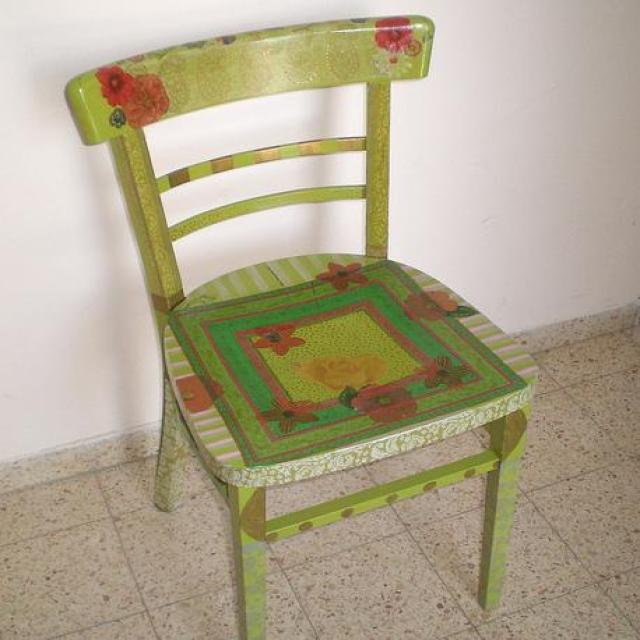chair: (66, 15, 539, 640)
